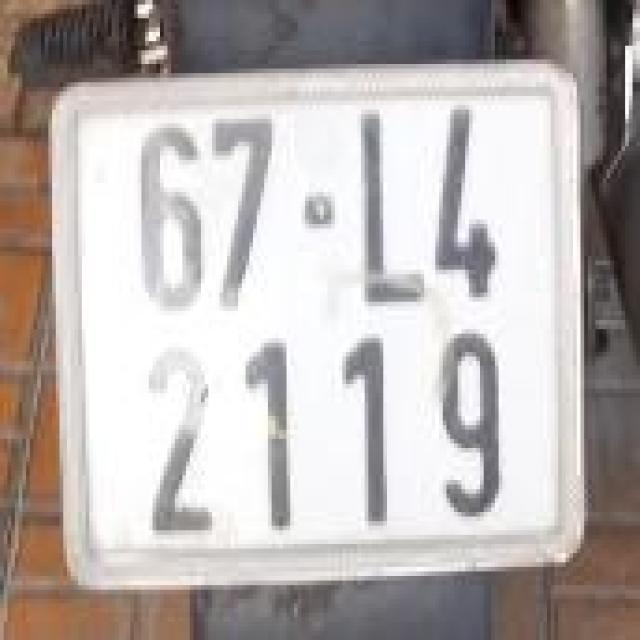1: (234, 329, 309, 558), (324, 322, 402, 537)
2: (136, 327, 225, 555)
4: (428, 82, 506, 311)
6: (128, 108, 210, 322)
7: (205, 112, 279, 318)
9: (426, 318, 512, 519)
L: (346, 87, 428, 315)
